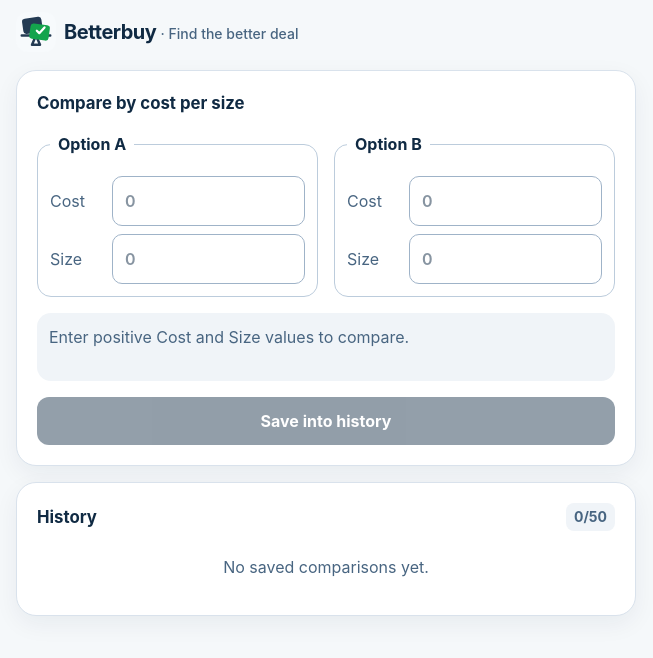
it: React app › shows the invalid state, compares values, and saves a comparison
Check: the button "Save into history" is disabled, box x1=37 y1=397 x2=615 y2=445
Check: the text "Enter positive Cost and Size values to compare." is shown, box x1=37 y1=313 x2=615 y2=381
Step 1. Type "40" into the number field named "A Cost" → [208, 201], box x1=112 y1=176 x2=305 y2=226
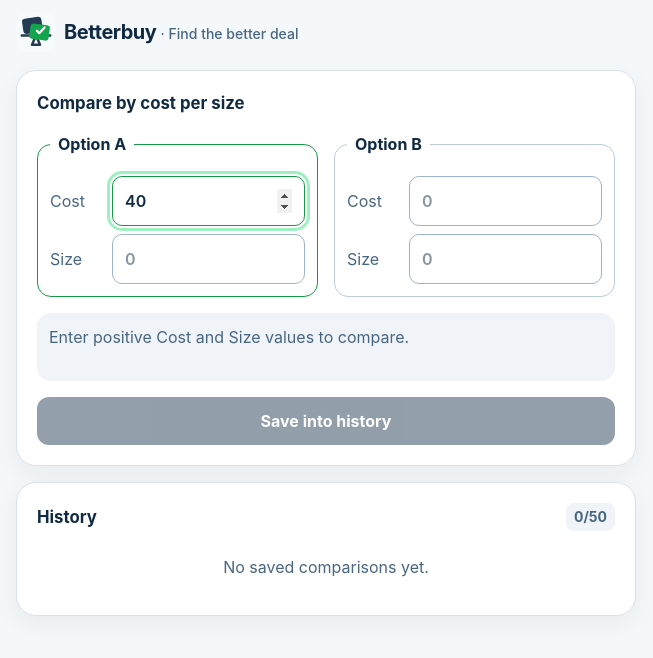
Step 2. Type "500" into the number field named "A Size" → [208, 259], box x1=112 y1=234 x2=305 y2=284
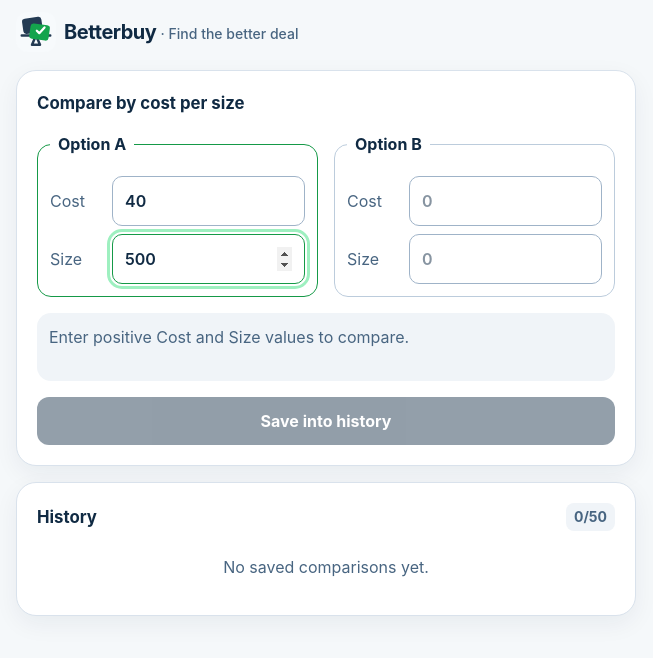
Step 3. Type "70" into the number field named "B Cost" → [506, 201], box x1=409 y1=176 x2=602 y2=226
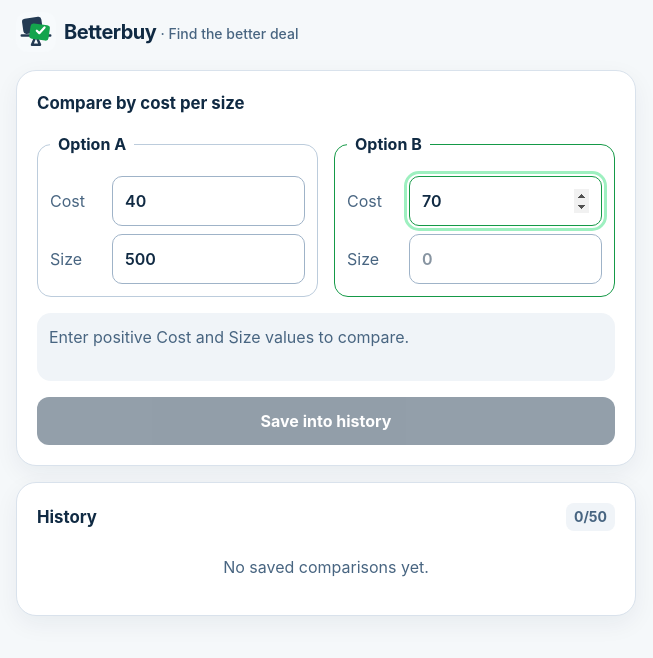
Step 4. Type "1000" into the number field named "B Size" → [506, 259], box x1=409 y1=234 x2=602 y2=284
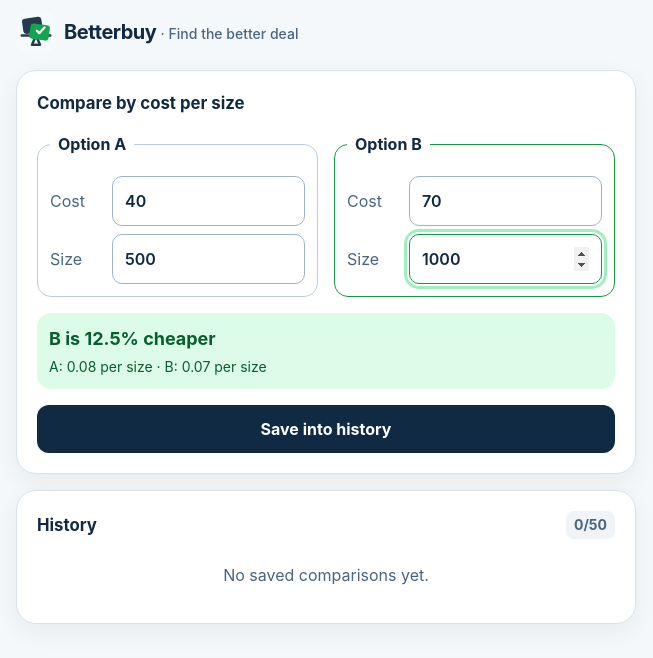
Check: the text "B is 12.5% cheaper" is shown, box x1=49 y1=328 x2=216 y2=349
Step 5. Click the button "Save into history" → [326, 429], box x1=37 y1=405 x2=615 y2=453
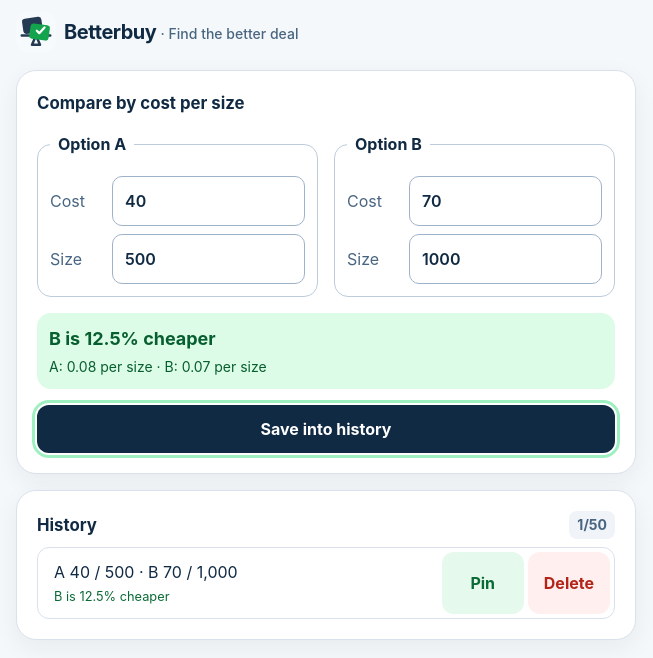
Check: the text "1/50" is shown, box x1=569 y1=511 x2=615 y2=539
Check: the text "A 40 / 500 · B 70 / 1,000" is shown, box x1=54 y1=562 x2=238 y2=582
